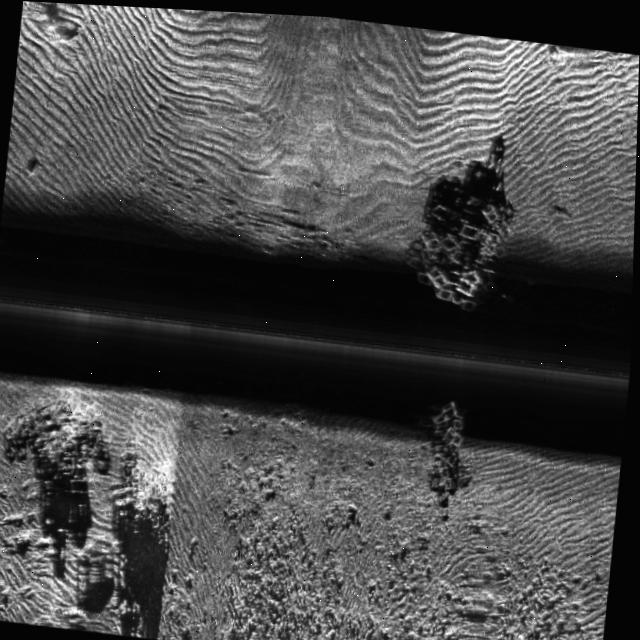artificial reef: (407, 182, 524, 312), (404, 380, 487, 504)
